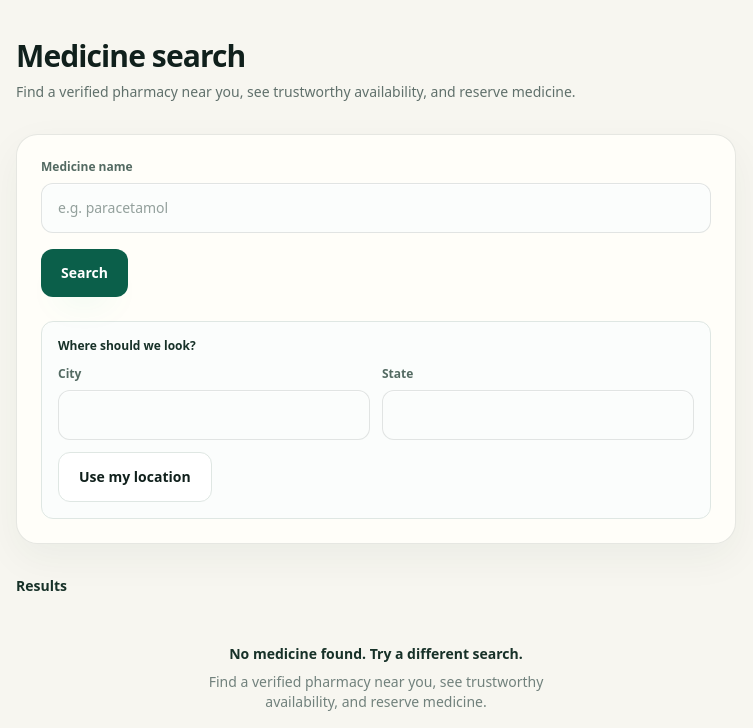
Scenario: PatientMedicinesWorkspace › applies a pharmacist live resolution so AVAILABLE enables reservation immediately
Type "paracetamol" into the field labelled "Medicine name" at (376, 208), box 41,183 -> 711,233
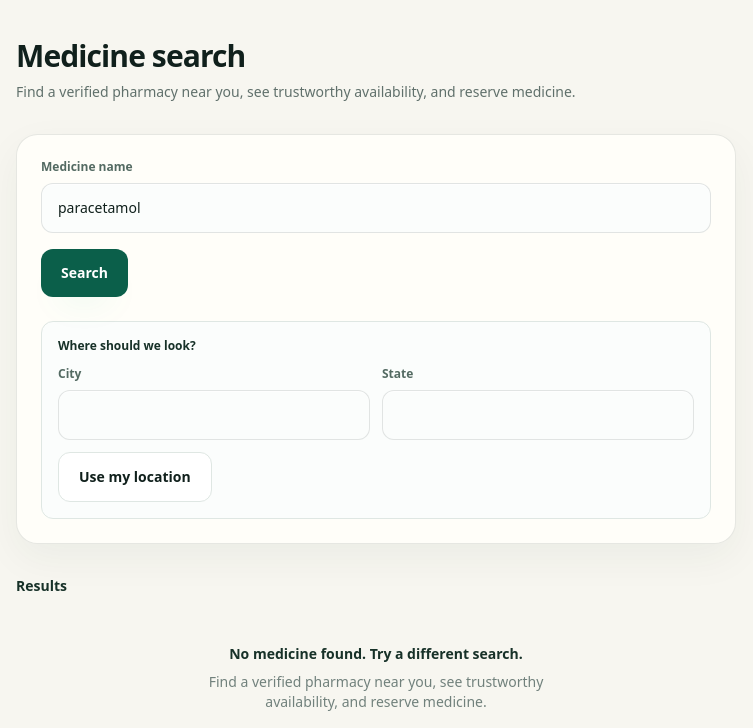
Type "Bengaluru" into the field labelled "City" at (214, 415), box 58,390 -> 370,440
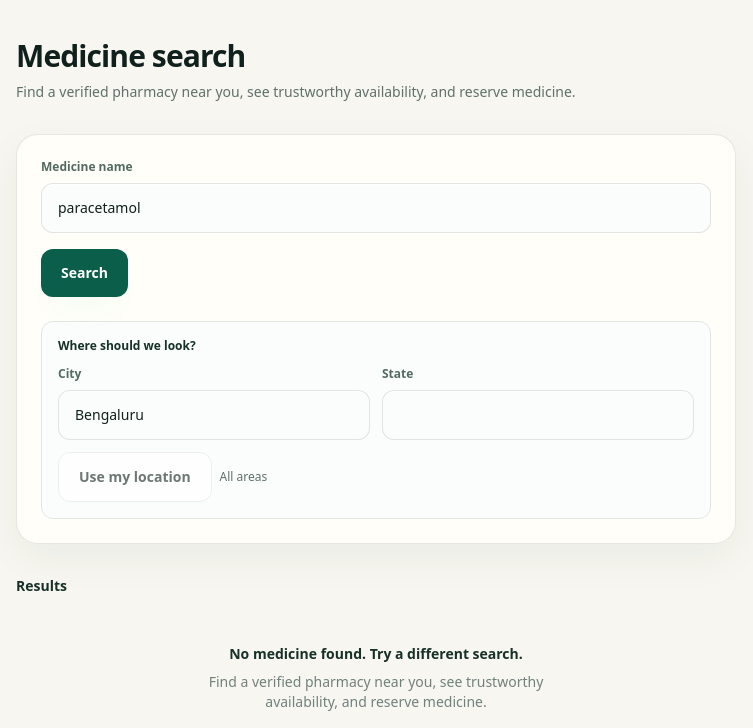
Type "Karnataka" into the field labelled "State" at (538, 415), box 382,390 -> 694,440
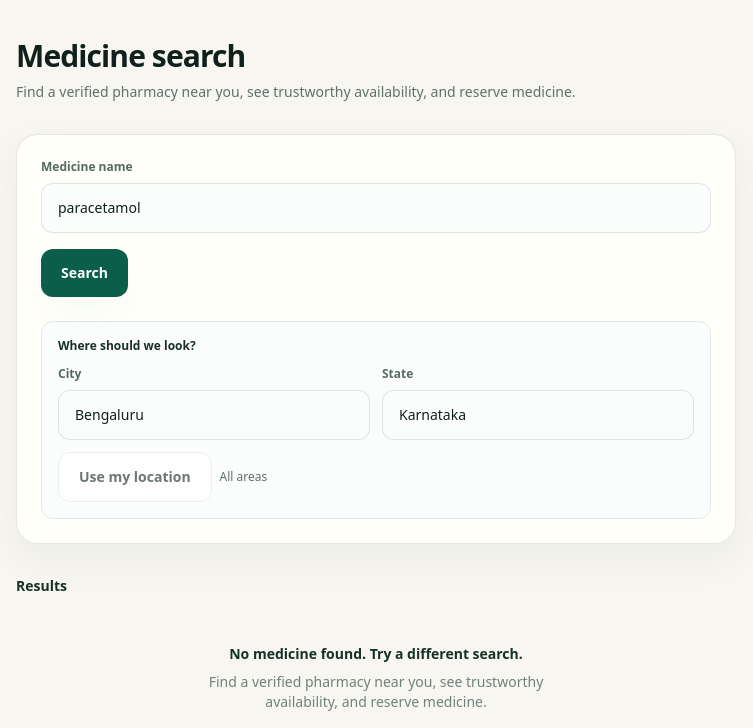
Click the button "Search" at (84, 273), box 41,249 -> 128,297
(page scrolled)
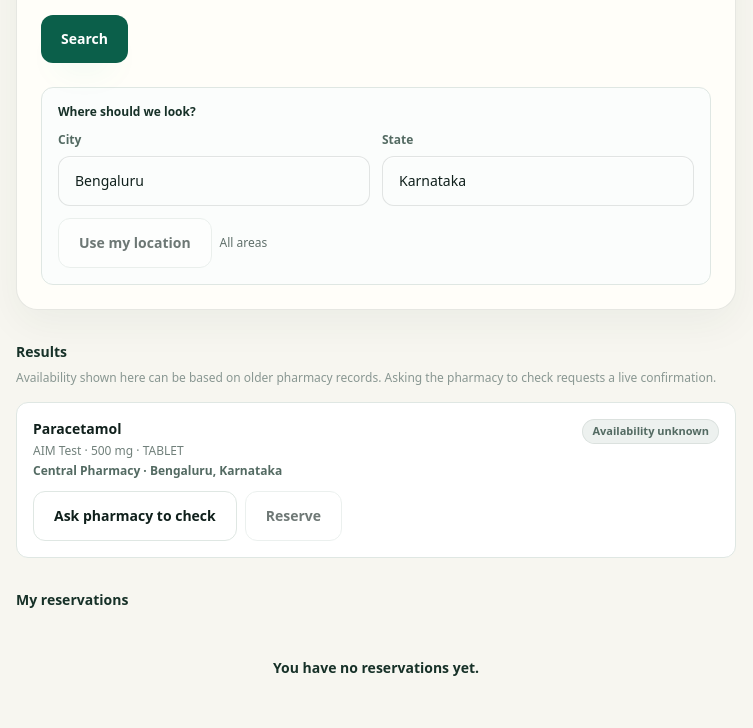
Check: the button "Reserve" is disabled, box 245,491 -> 342,541
Check: the text "Paracetamol" is shown, box 33,419 -> 122,438
Click the button "Ask pharmacy to check" at (135, 516), box 33,491 -> 237,541
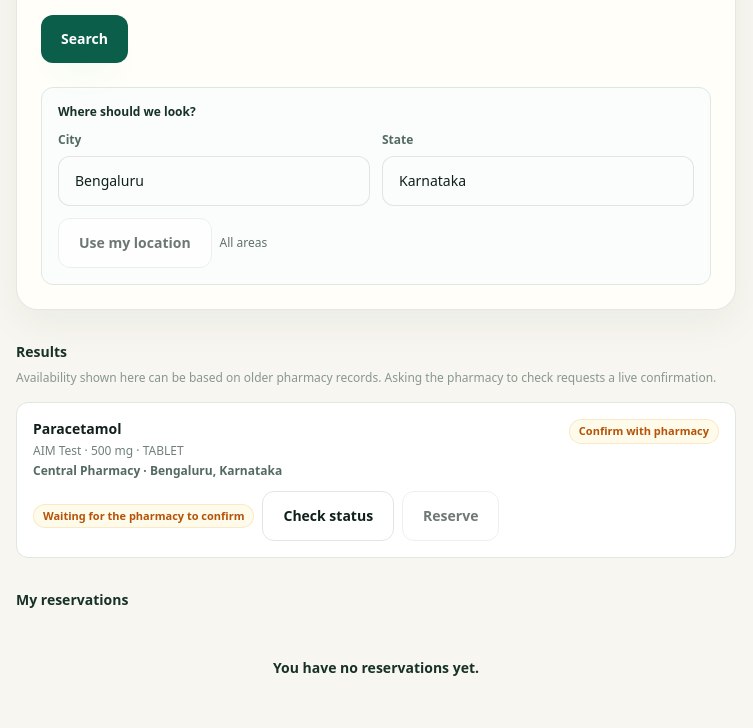
Check: the text "Waiting for the pharmacy to confirm" is shown, box 33,504 -> 254,528
Click the button "Check status" at (328, 516), box 262,491 -> 394,541
(page scrolled)
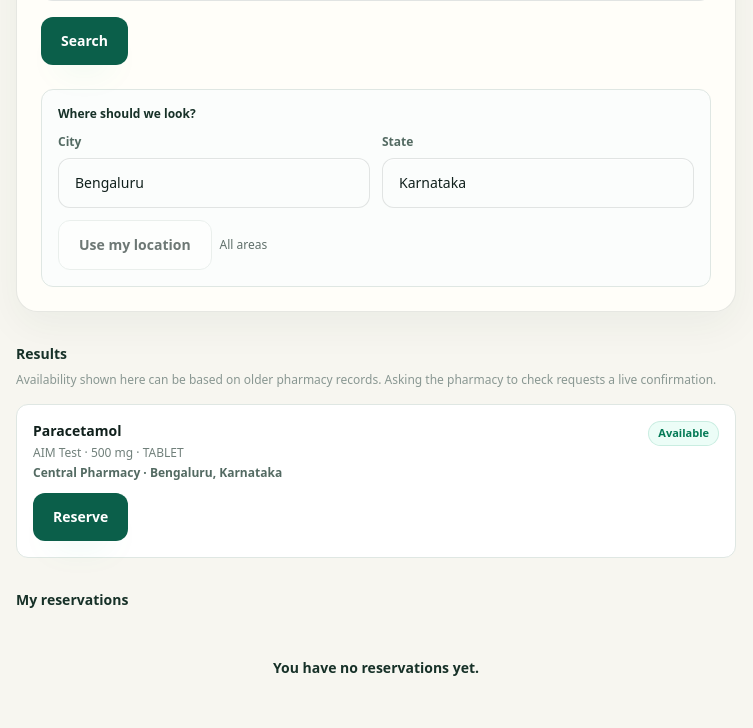
Check: the text "Available" is shown, box 648,421 -> 719,446
Check: the button "Reserve" is enabled, box 33,493 -> 128,541
